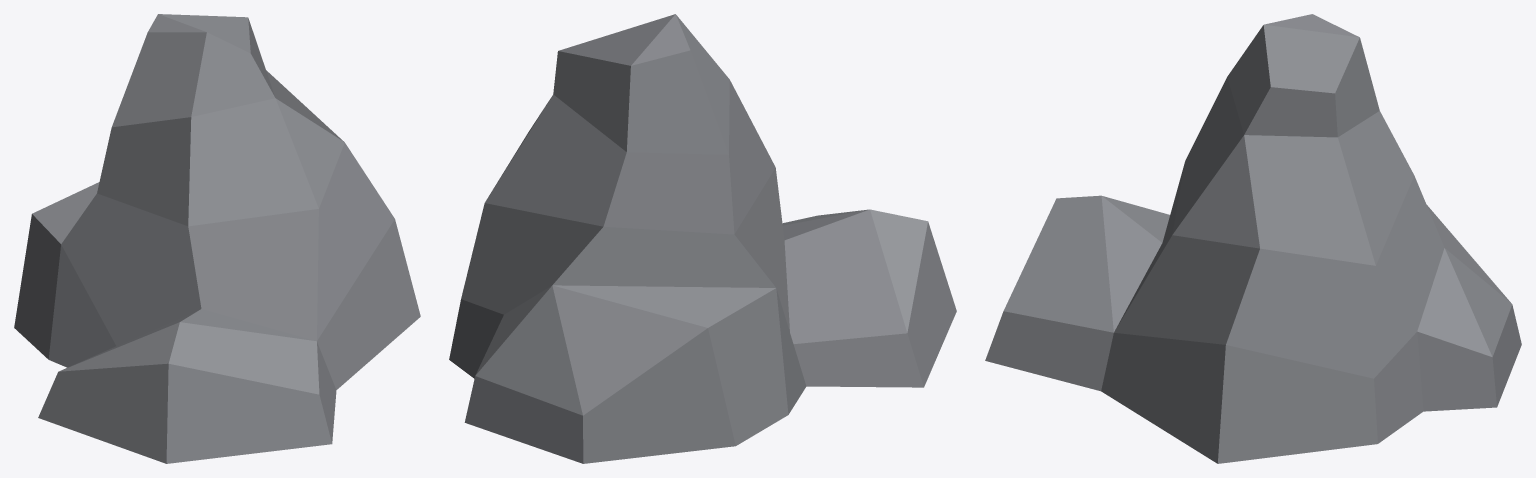
Rendered from stone_7.fbx.
3 renders of one model, left to right at view 1: azimuth 30°, elevation 25°; view 2: azimuth 150°, elevation 25°; view 3: azimuth 270°, elevation 25°, orthographic. The views are drawn at different scales.
Visible parts, largest first — view 1: stone_7; view 2: stone_7; view 3: stone_7.
Part boxes in pixels (x1,y1,x2,y2): stone_7: (14, 14, 420, 463); stone_7: (449, 14, 956, 463); stone_7: (985, 14, 1521, 463).
Size of the model in its own units: 186 by 143 by 206.
